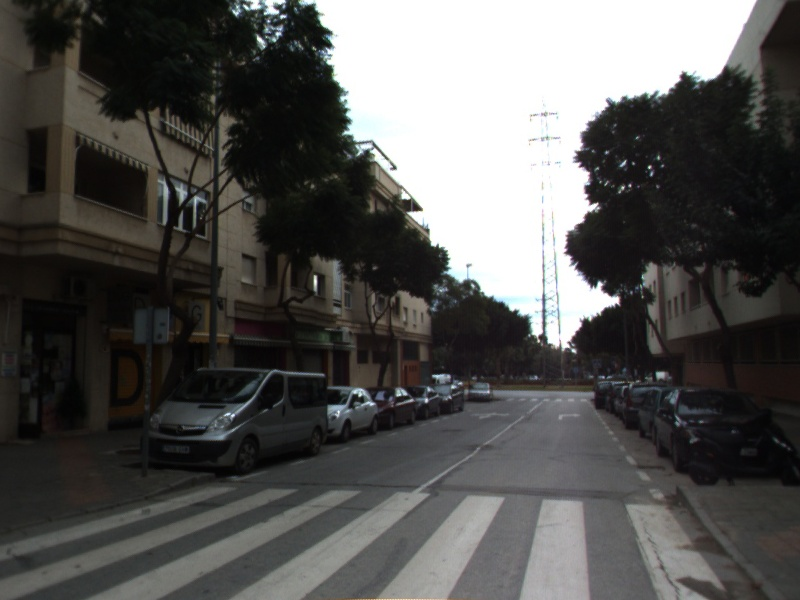RIGHT: (556, 411, 583, 422)
